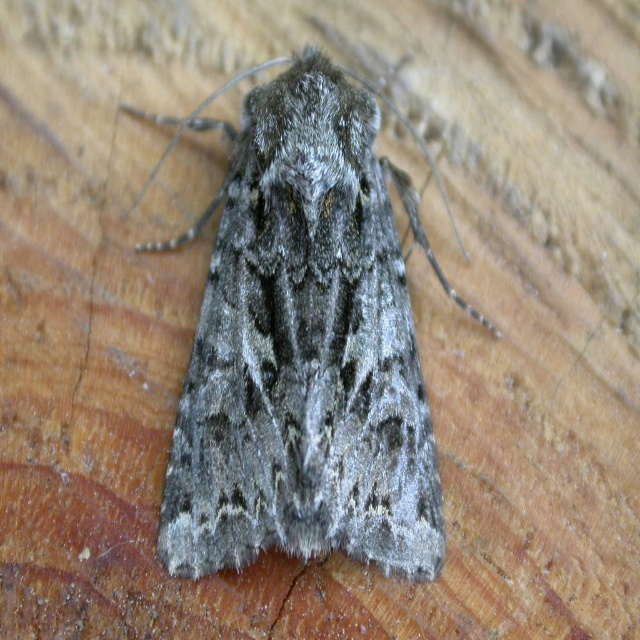Moths and butterflies: (119, 39, 510, 585)
